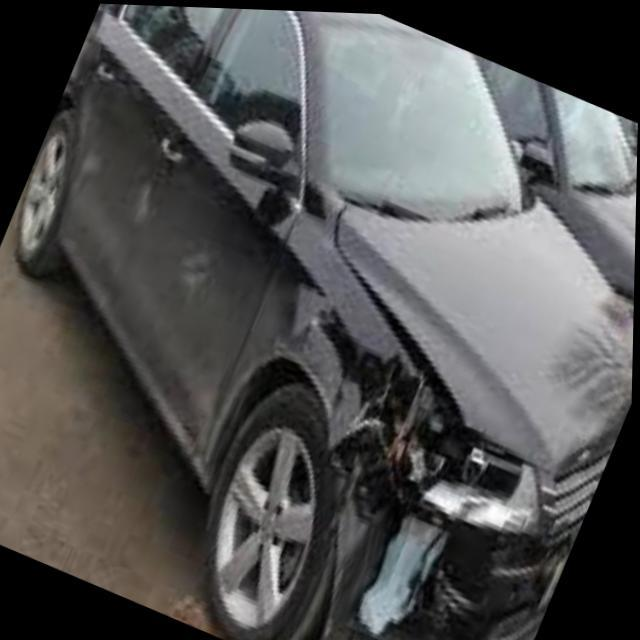no part: (295, 295, 536, 640)
